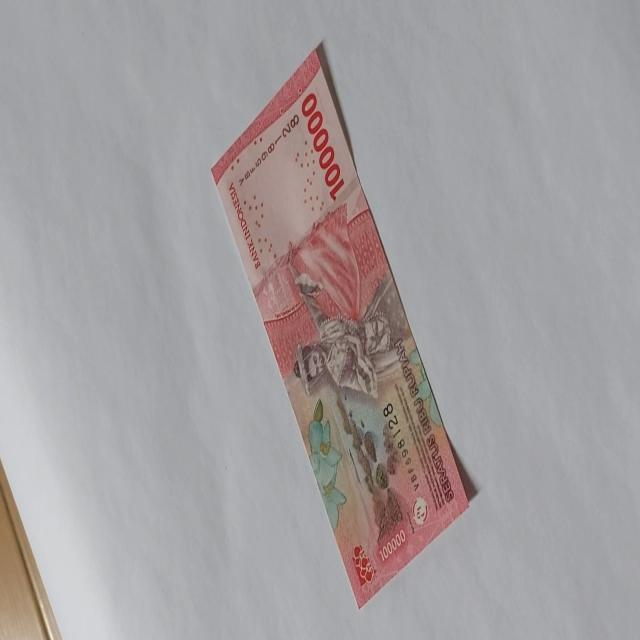seratus ribu rupiah: (210, 44, 472, 609)
